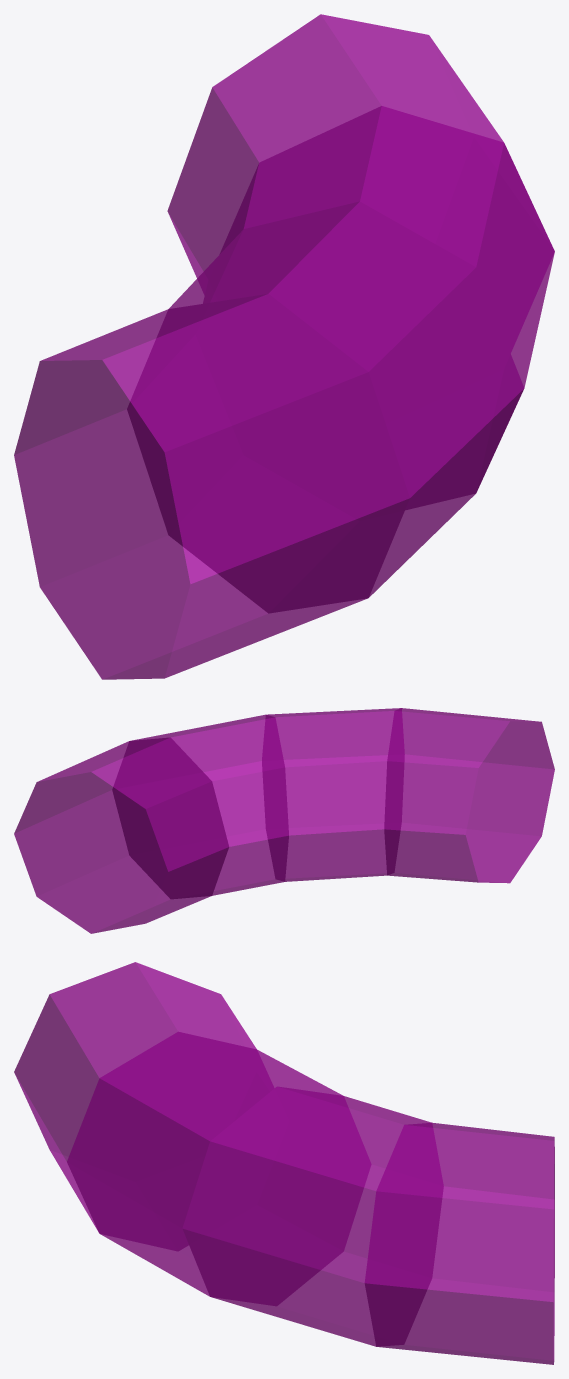
Rendered from SM_Prop_Pipe_Bend_04_Collision.fbx.
3 renders of one model, top to bottom at view 1: azimuth 30°, elevation 25°; view 2: azimuth 150°, elevation 25°; view 3: azimuth 270°, elevation 25°, orthographic. The views are drawn at different scales.
Parts seen in each view (by area): view 1: SM_Prop_Pipe_Bend_04_Collision; view 2: SM_Prop_Pipe_Bend_04_Collision; view 3: SM_Prop_Pipe_Bend_04_Collision.
Boxes of the visible parts, x1,y1,x2,y2 form: SM_Prop_Pipe_Bend_04_Collision: (14, 14, 554, 679); SM_Prop_Pipe_Bend_04_Collision: (14, 708, 554, 933); SM_Prop_Pipe_Bend_04_Collision: (14, 962, 554, 1364).
Bounding box in the file's own units: 165 × 75.9 × 167.
